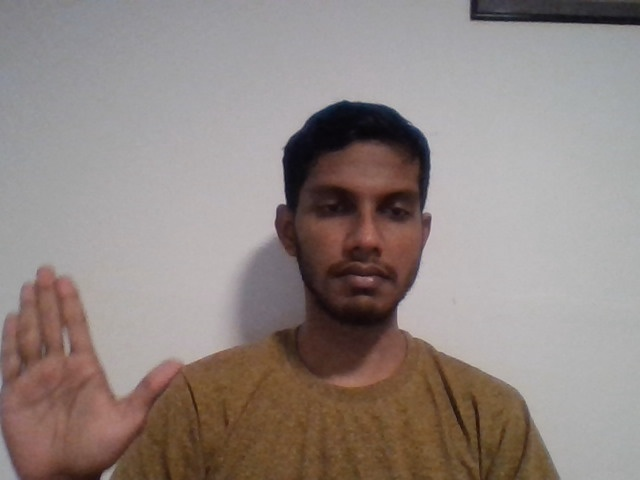hello: (1, 252, 186, 478)
